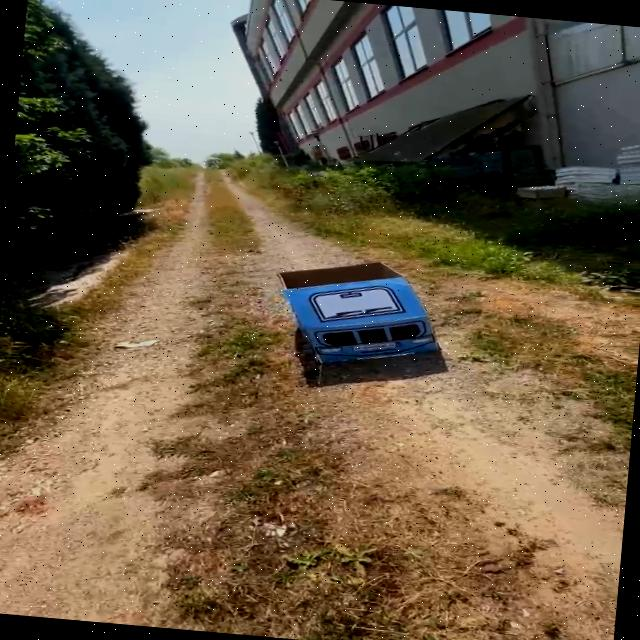blue_car: (258, 243, 474, 399)
